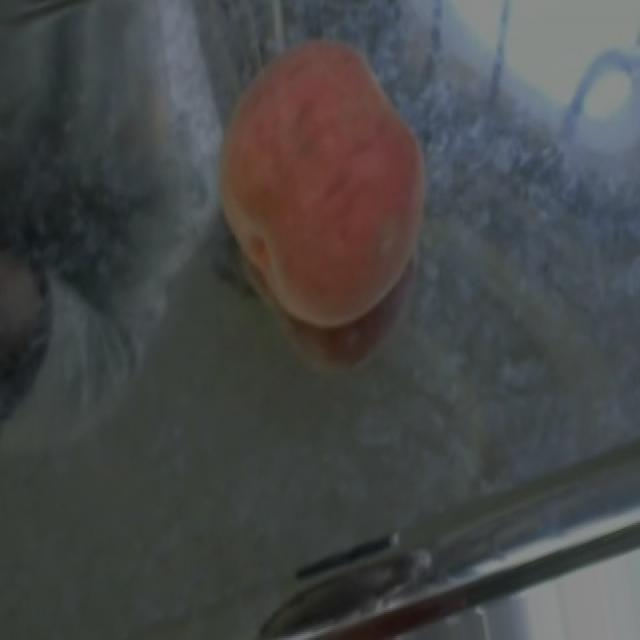Fruit: (180, 10, 457, 354), (1, 207, 74, 453)
